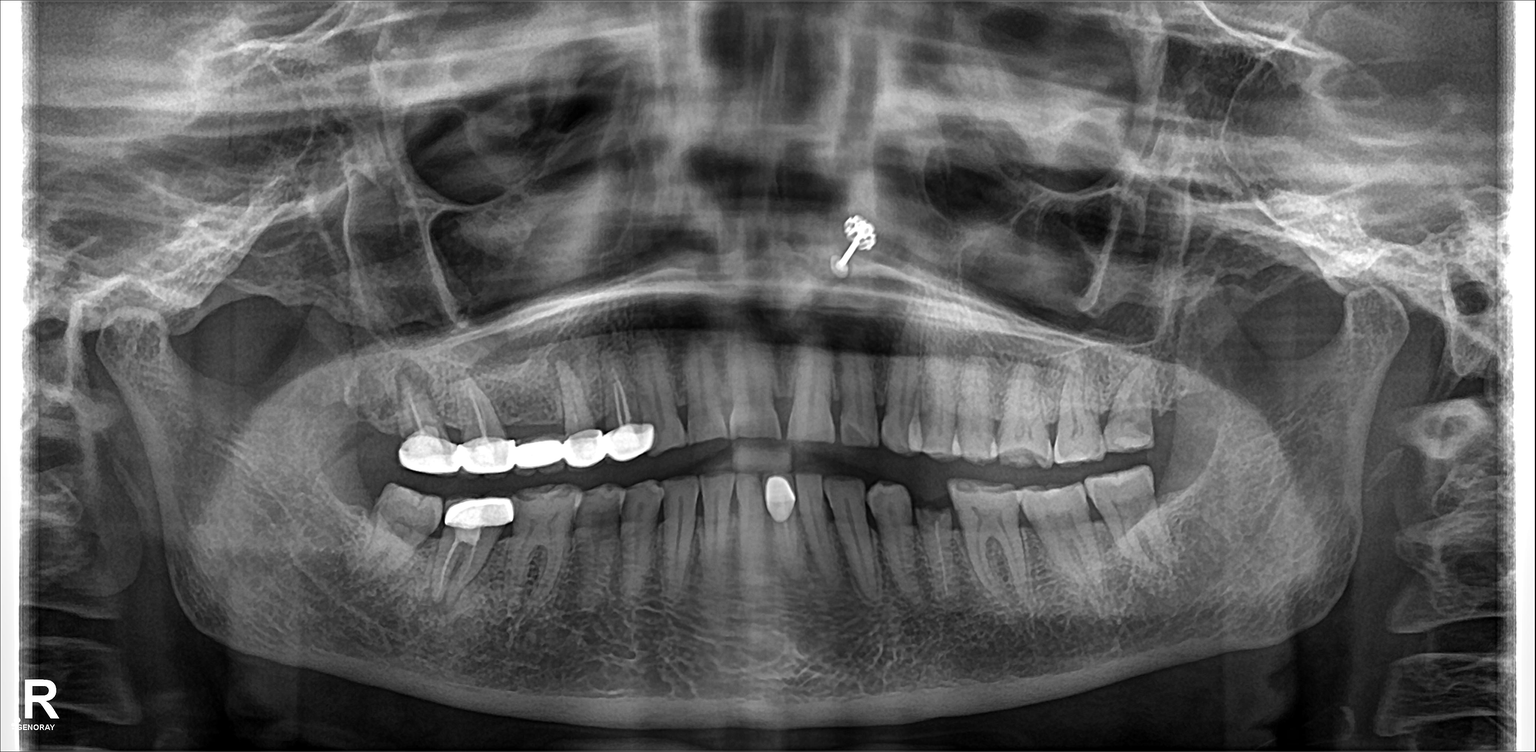Dental Caries: (916, 486, 949, 538)
Endodontically Treated Tooth: (436, 506, 501, 621), (456, 378, 521, 469), (603, 346, 653, 457), (395, 378, 448, 474), (551, 367, 602, 463), (529, 383, 562, 469)
